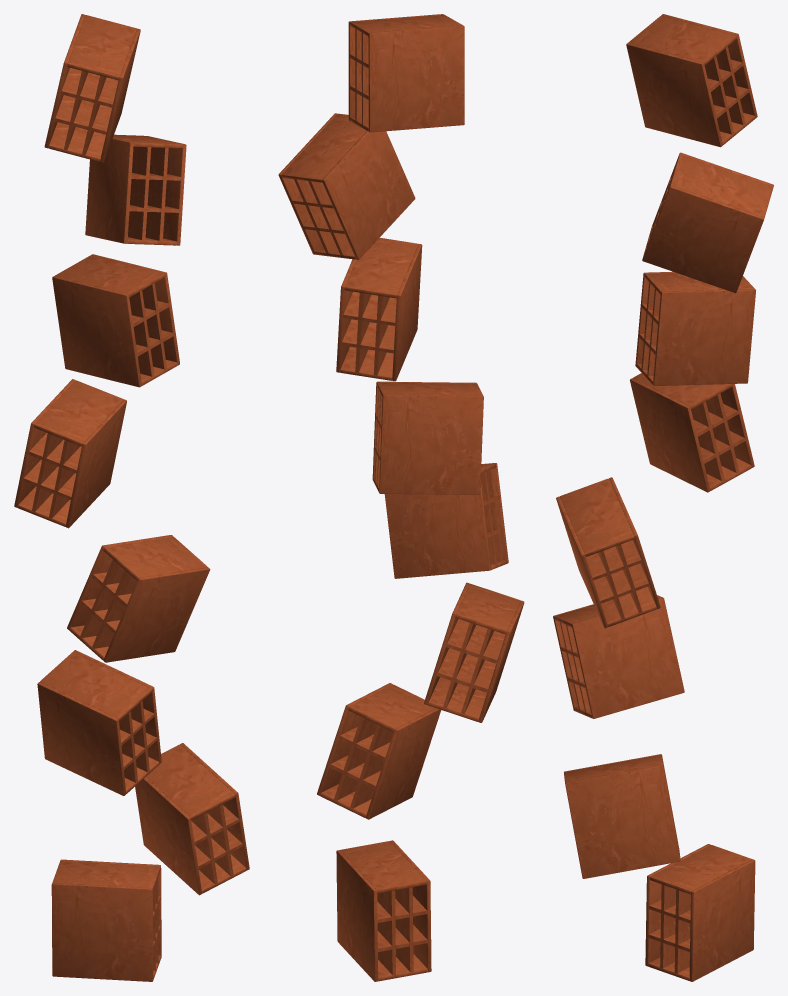
Rendered from ALV-BLC-003_anim.glb.
3 renders of one model, left to right at view 1: azimuth 30°, elevation 25°; view 2: azimuth 150°, elevation 25°; view 3: azimuth 270°, elevation 25°, orthographic.
Parts seen in each view (by area): view 1: ALV-BLC-003_anim5, ALV-BLC-003_anim2, ALV-BLC-003_anim0, ALV-BLC-003_anim3, ALV-BLC-003_anim1, ALV-BLC-003_anim4, ALV-BLC-003_anim6, ALV-BLC-003_anim7; view 2: ALV-BLC-003_anim6, ALV-BLC-003_anim7, ALV-BLC-003_anim4, ALV-BLC-003_anim0, ALV-BLC-003_anim1, ALV-BLC-003_anim3, ALV-BLC-003_anim5, ALV-BLC-003_anim2; view 3: ALV-BLC-003_anim7, ALV-BLC-003_anim0, ALV-BLC-003_anim5, ALV-BLC-003_anim6, ALV-BLC-003_anim1, ALV-BLC-003_anim2, ALV-BLC-003_anim4, ALV-BLC-003_anim3.
Boxes of the visible parts, left/top/right/bottom form: ALV-BLC-003_anim5: left=52, top=254, right=179, bottom=387; ALV-BLC-003_anim2: left=37, top=650, right=161, bottom=795; ALV-BLC-003_anim0: left=51, top=859, right=161, bottom=981; ALV-BLC-003_anim3: left=67, top=535, right=210, bottom=662; ALV-BLC-003_anim1: left=135, top=743, right=249, bottom=895; ALV-BLC-003_anim4: left=14, top=379, right=126, bottom=528; ALV-BLC-003_anim6: left=85, top=134, right=186, bottom=245; ALV-BLC-003_anim7: left=44, top=14, right=140, bottom=162; ALV-BLC-003_anim6: left=278, top=113, right=415, bottom=259; ALV-BLC-003_anim7: left=348, top=14, right=464, bottom=132; ALV-BLC-003_anim4: left=372, top=381, right=483, bottom=494; ALV-BLC-003_anim0: left=336, top=840, right=431, bottom=981; ALV-BLC-003_anim1: left=317, top=683, right=441, bottom=819; ALV-BLC-003_anim3: left=384, top=463, right=508, bottom=578; ALV-BLC-003_anim5: left=336, top=237, right=422, bottom=381; ALV-BLC-003_anim2: left=424, top=582, right=524, bottom=722; ALV-BLC-003_anim7: left=626, top=14, right=757, bottom=147; ALV-BLC-003_anim0: left=645, top=844, right=755, bottom=981; ALV-BLC-003_anim5: left=635, top=271, right=755, bottom=386; ALV-BLC-003_anim6: left=642, top=152, right=773, bottom=293; ALV-BLC-003_anim1: left=564, top=754, right=680, bottom=878; ALV-BLC-003_anim2: left=553, top=595, right=684, bottom=718; ALV-BLC-003_anim4: left=630, top=373, right=754, bottom=492; ALV-BLC-003_anim3: left=556, top=477, right=660, bottom=628.
Bounding box in the file's own units: 0.3902 × 1.94 × 0.4204.
1 material, 1 textured.
